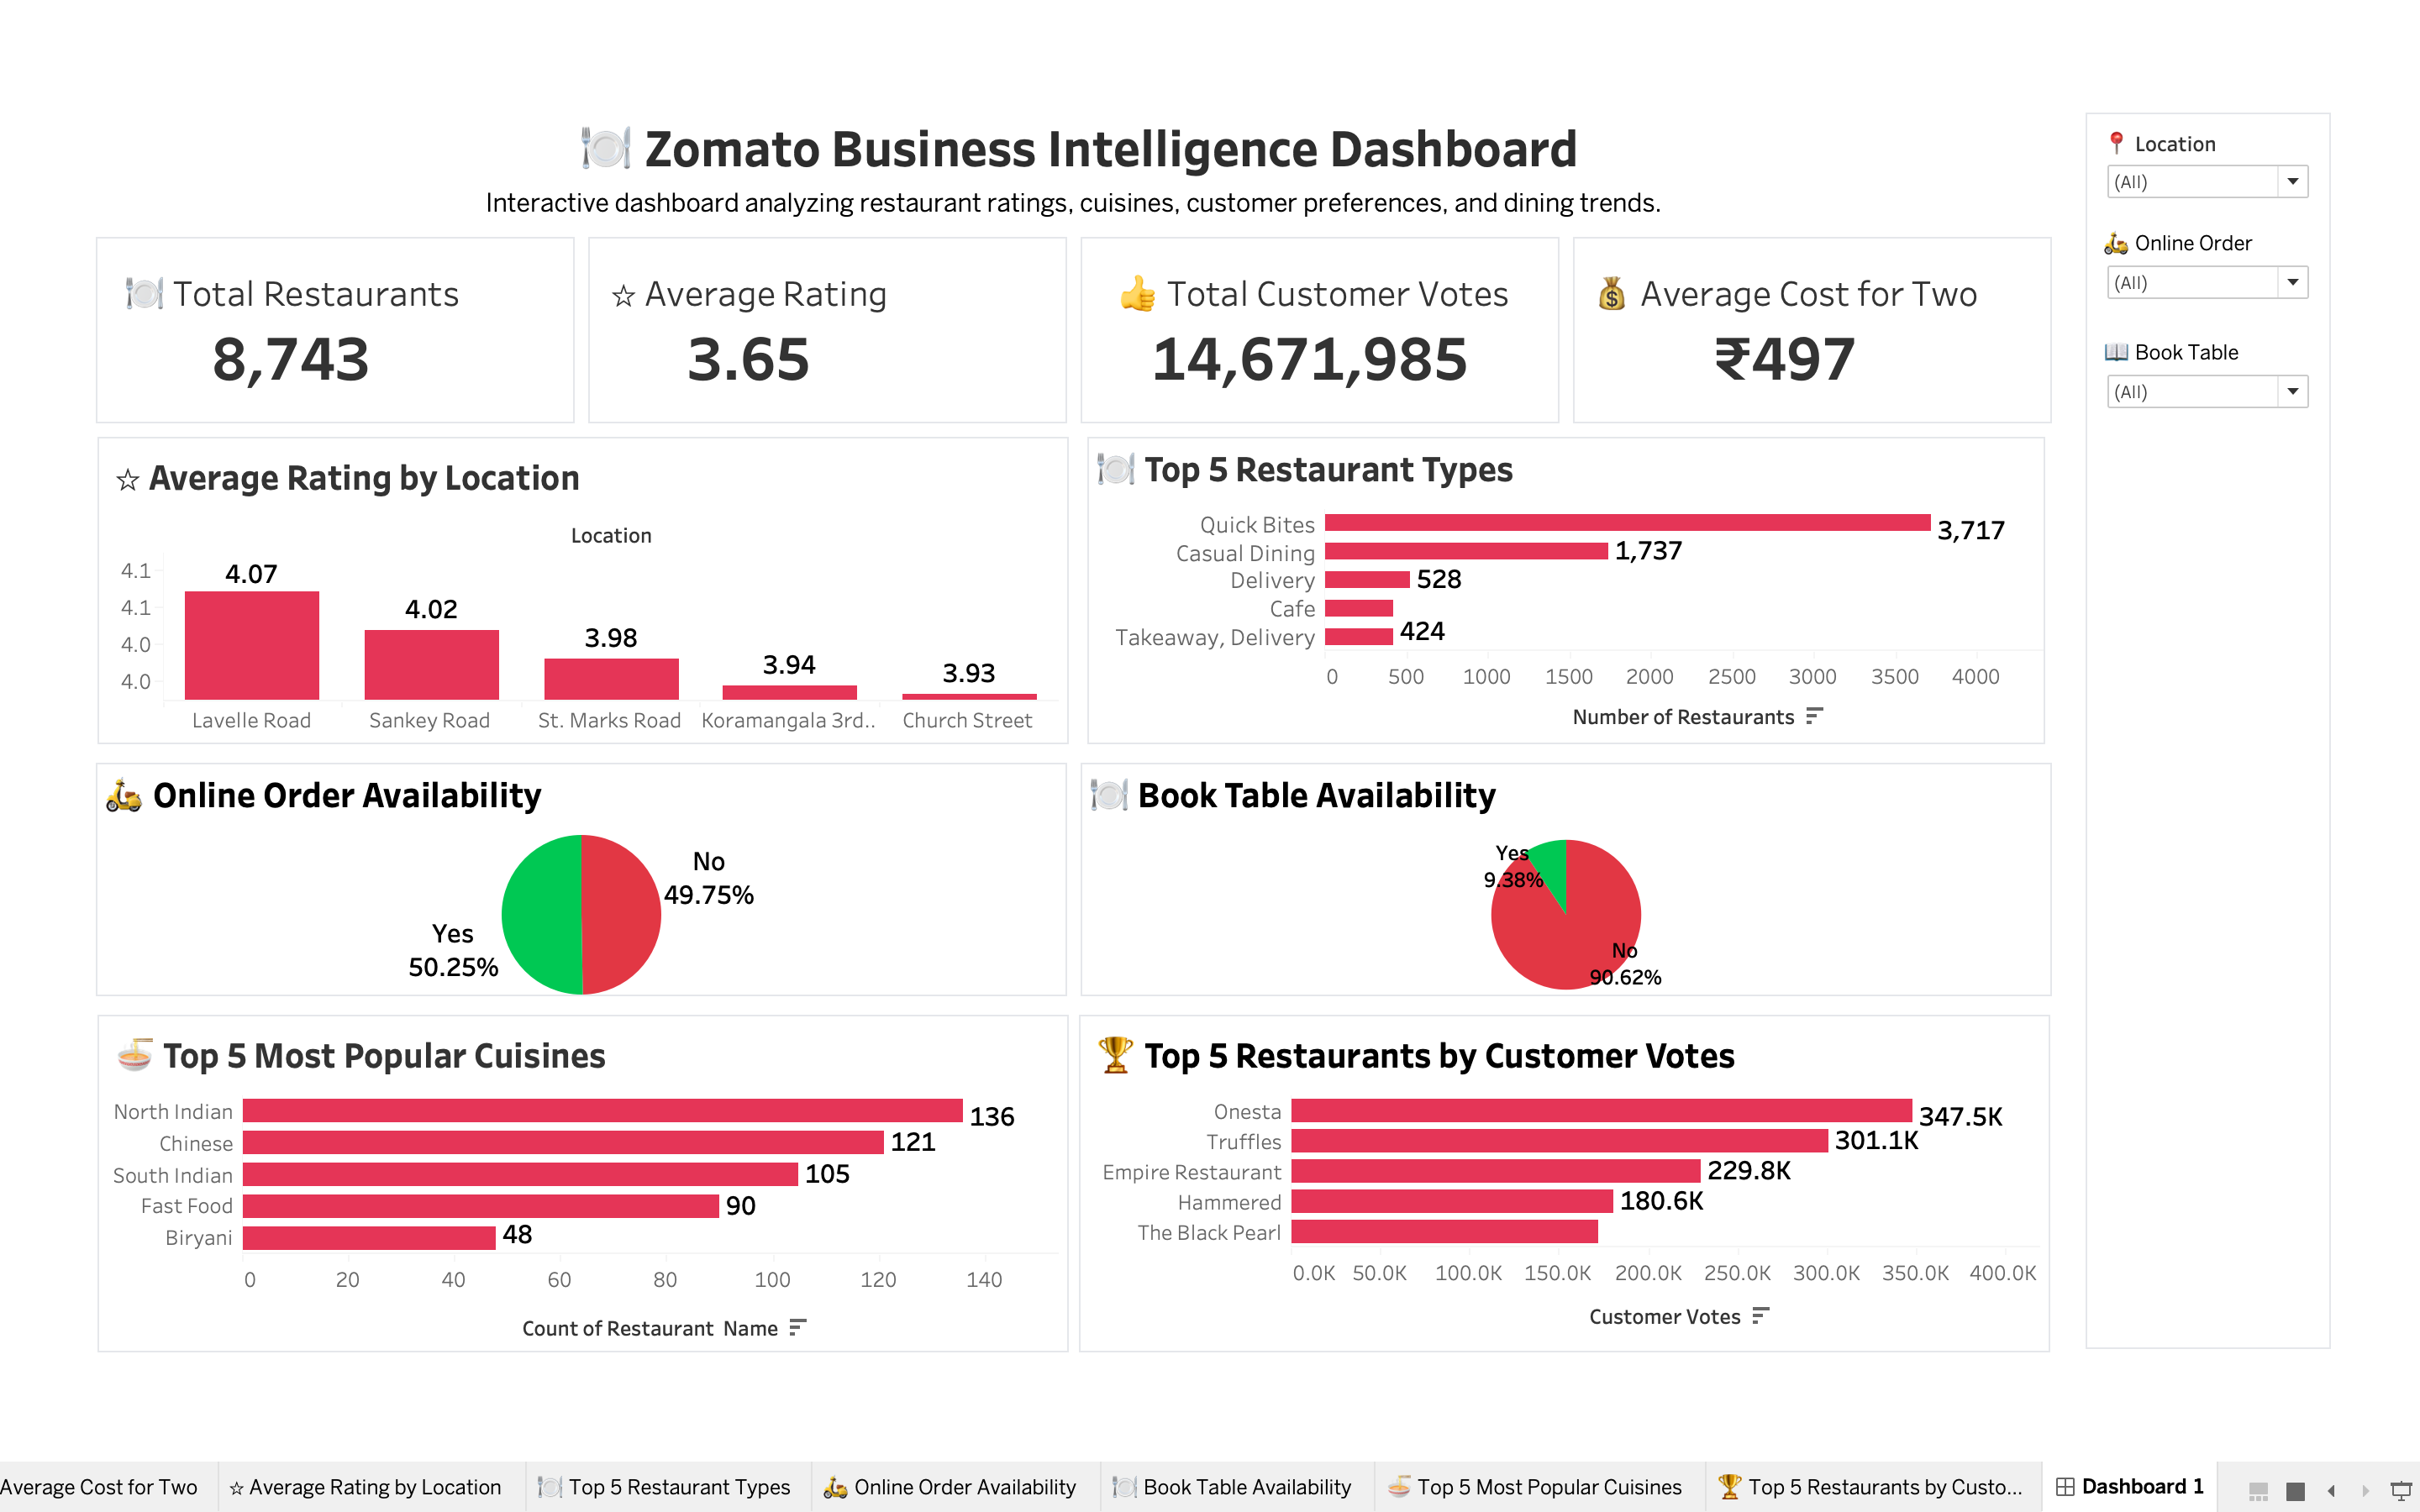

This screenshot's page, from the dashboard's own definition file:
{"tool":"tableau","page":{"name":"Dashboard 1","canvas":[1366,768],"ordinal":0},"visuals":[{"type":"text","box":[8,8,1188,48]},{"type":"filter","title":"⭐ Average Rating by Location","param":"[federated.0ll4oex0261rf5110tdcp1fh8gvq].[none:Location:nk]","box":[1210,22,134,60]},{"type":"text","box":[8,56,1188,32]},{"type":"filter","title":"🛵 Online Order Availability","param":"[federated.0ll4oex0261rf5110tdcp1fh8gvq].[none:Online_Order:nk]","box":[1210,82,134,65]},{"type":"worksheet","title":"🍽️ Total Restaurants","mark":"Automatic","box":[16,88,293,115]},{"type":"worksheet","title":"⭐ Average Rating","mark":"Automatic","box":[309,88,293,115]},{"type":"worksheet","title":"👍 Total Customer Votes","mark":"Automatic","box":[602,88,293,115]},{"type":"worksheet","title":"💰 Average Cost for Two","mark":"Automatic","box":[895,88,293,115]},{"type":"filter","title":"🍽️ Book Table Availability","param":"[federated.0ll4oex0261rf5110tdcp1fh8gvq].[none:Book_Table:nk]","box":[1210,147,134,67]},{"type":"worksheet","title":"⭐ Average Rating by Location","mark":"Bar","rows":["Avg_Rating"],"cols":["Location"],"box":[16,204,586,193]},{"type":"worksheet","title":"🍽 Top 5 Restaurant Types","mark":"Bar","rows":["Rest_Type"],"cols":["Restaurant_Name"],"box":[602,204,586,193]},{"type":"worksheet","title":"🛵 Online Order Availability","mark":"Pie","box":[16,399,586,147]},{"type":"worksheet","title":"🍽️ Book Table Availability","mark":"Pie","box":[602,399,586,147]},{"type":"worksheet","title":"🍜 Top 5 Most Popular Cuisines","mark":"Bar","rows":["Cuisine"],"cols":["Restaurant_Name"],"box":[16,548,586,211]},{"type":"worksheet","title":"🏆 Top 5 Restaurants by Customer Votes","mark":"Automatic","rows":["Restaurant_Name"],"cols":["Total_Votes"],"box":[602,548,586,211]}]}

Visuals, with their boxes on the page's 1366x768 design canvas (x1, y1, x2, y2). These are canvas units, not pixel positions in the 2420x1512 screenshot, which may show the page scaled, cropped or inside an application window:
text: <box>8,8,1196,56</box>
"⭐ Average Rating by Location" filter: <box>1210,22,1344,82</box>
text: <box>8,56,1196,88</box>
"🛵 Online Order Availability" filter: <box>1210,82,1344,147</box>
"🍽️ Total Restaurants" worksheet: <box>16,88,309,203</box>
"⭐ Average Rating" worksheet: <box>309,88,602,203</box>
"👍 Total Customer Votes" worksheet: <box>602,88,895,203</box>
"💰 Average Cost for Two" worksheet: <box>895,88,1188,203</box>
"🍽️ Book Table Availability" filter: <box>1210,147,1344,214</box>
"⭐ Average Rating by Location" worksheet (Bar marks): <box>16,204,602,397</box>
"🍽 Top 5 Restaurant Types" worksheet (Bar marks): <box>602,204,1188,397</box>
"🛵 Online Order Availability" worksheet (Pie marks): <box>16,399,602,546</box>
"🍽️ Book Table Availability" worksheet (Pie marks): <box>602,399,1188,546</box>
"🍜 Top 5 Most Popular Cuisines" worksheet (Bar marks): <box>16,548,602,759</box>
"🏆 Top 5 Restaurants by Customer Votes" worksheet: <box>602,548,1188,759</box>
